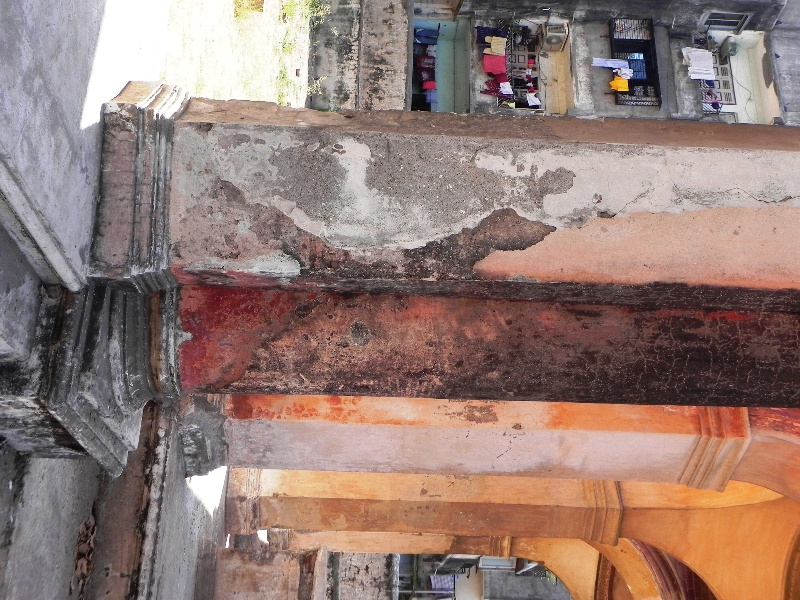Spalling: (220, 181, 346, 279), (410, 205, 563, 278)
